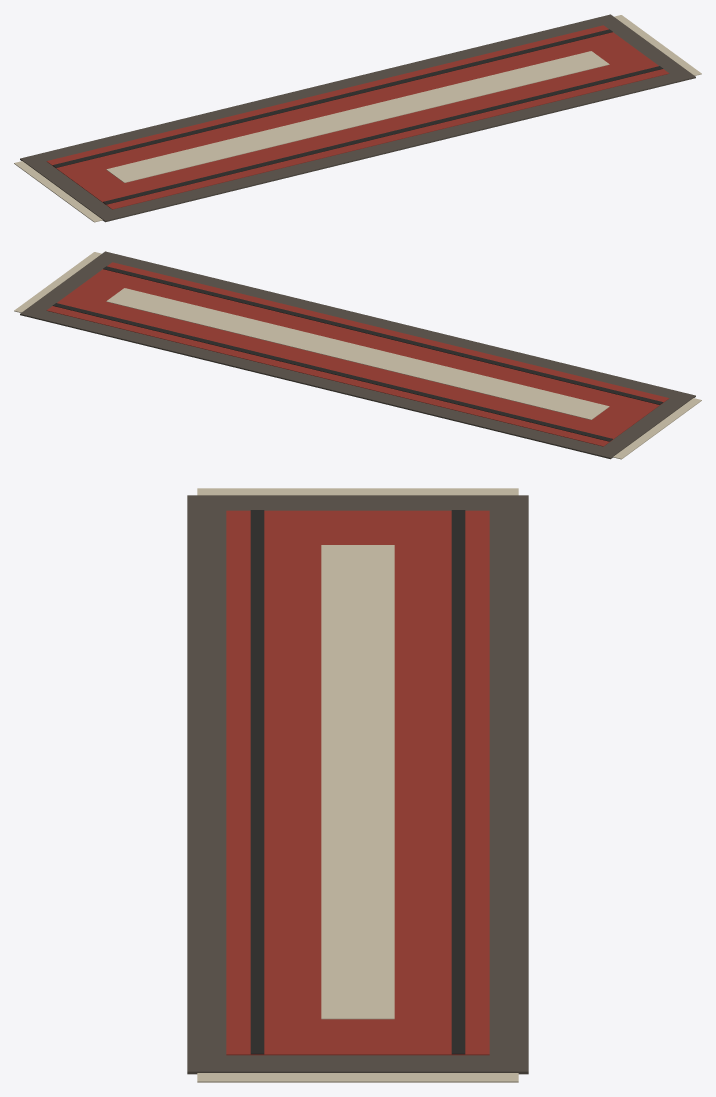
File: rug-runner.glb
3 renders of one model, top to bottom at view 1: azimuth 30°, elevation 25°; view 2: azimuth 150°, elevation 25°; view 3: azimuth 270°, elevation 25°, orthographic. The views are drawn at different scales.
Parts seen in each view (by area): view 1: accent-warm, fabric, paper, plastic-dark; view 2: accent-warm, fabric, paper, plastic-dark; view 3: accent-warm, fabric, paper, plastic-dark.
Part boxes in pixels (x1,y1,x2,y2): accent-warm: (46,25,669,209); fabric: (20,14,695,222); paper: (14,15,701,222); plastic-dark: (52,29,663,204); accent-warm: (46,262,669,446); fabric: (20,251,695,459); paper: (14,252,701,459); plastic-dark: (52,266,663,441); accent-warm: (226,510,489,1055); fabric: (187,495,528,1074); paper: (197,488,518,1082); plastic-dark: (250,510,465,1054).
Size of the model in its own units: 2.88 by 0.01 by 0.7.
